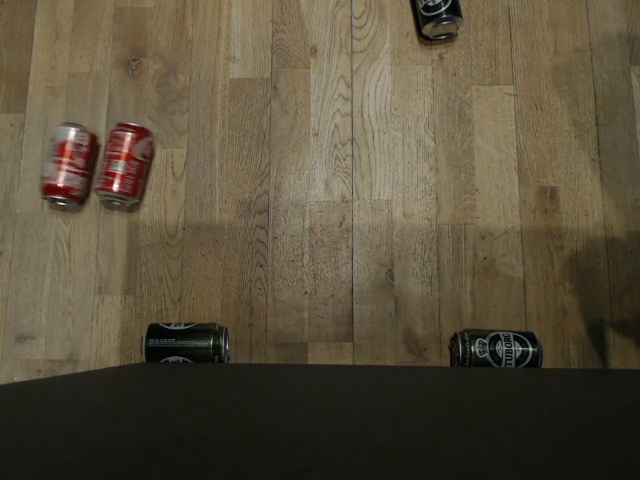beer: (140, 319, 229, 365), (449, 325, 540, 369), (412, 0, 468, 41)
cola: (92, 120, 156, 204), (40, 120, 96, 207)
